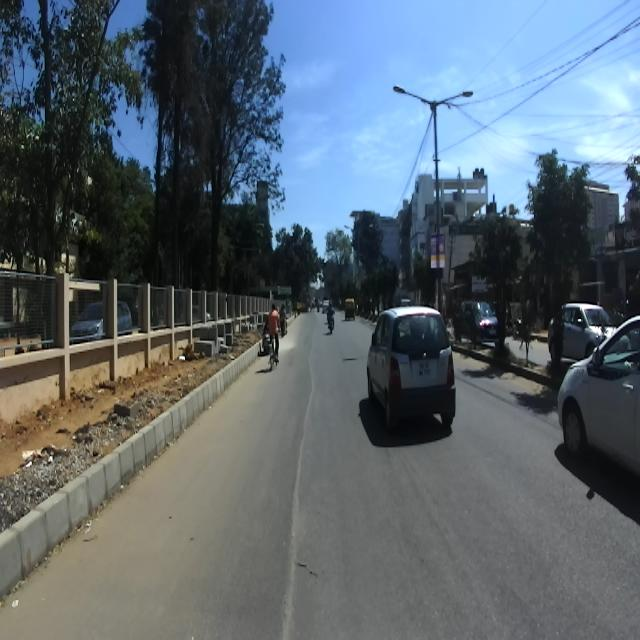bicycle ahead at: (265, 301, 283, 371)
car ahead at: (558, 306, 640, 484), (359, 303, 459, 442)
